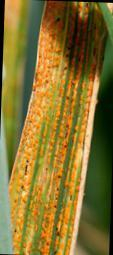Wheat: (21, 124, 72, 217), (48, 5, 98, 68), (37, 78, 88, 119), (16, 226, 70, 255)
